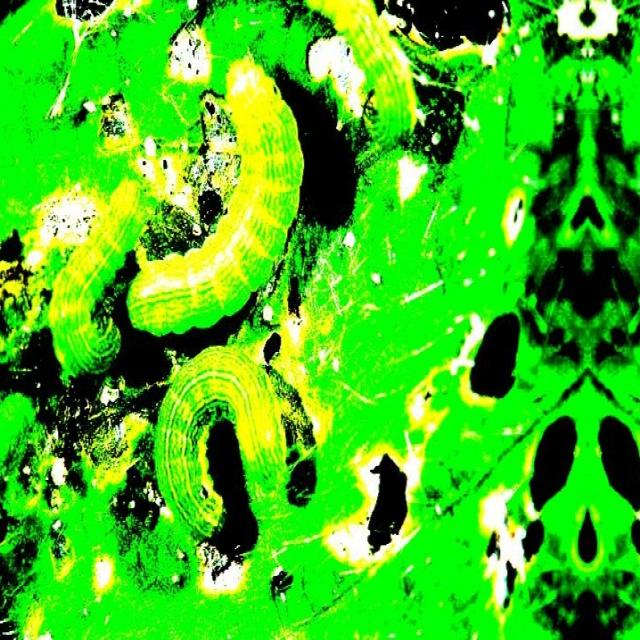Armyworm: (114, 65, 327, 334), (140, 331, 296, 554)
Armyworm_damage: (339, 401, 429, 598), (450, 283, 536, 424), (584, 399, 640, 551), (517, 412, 587, 526)
